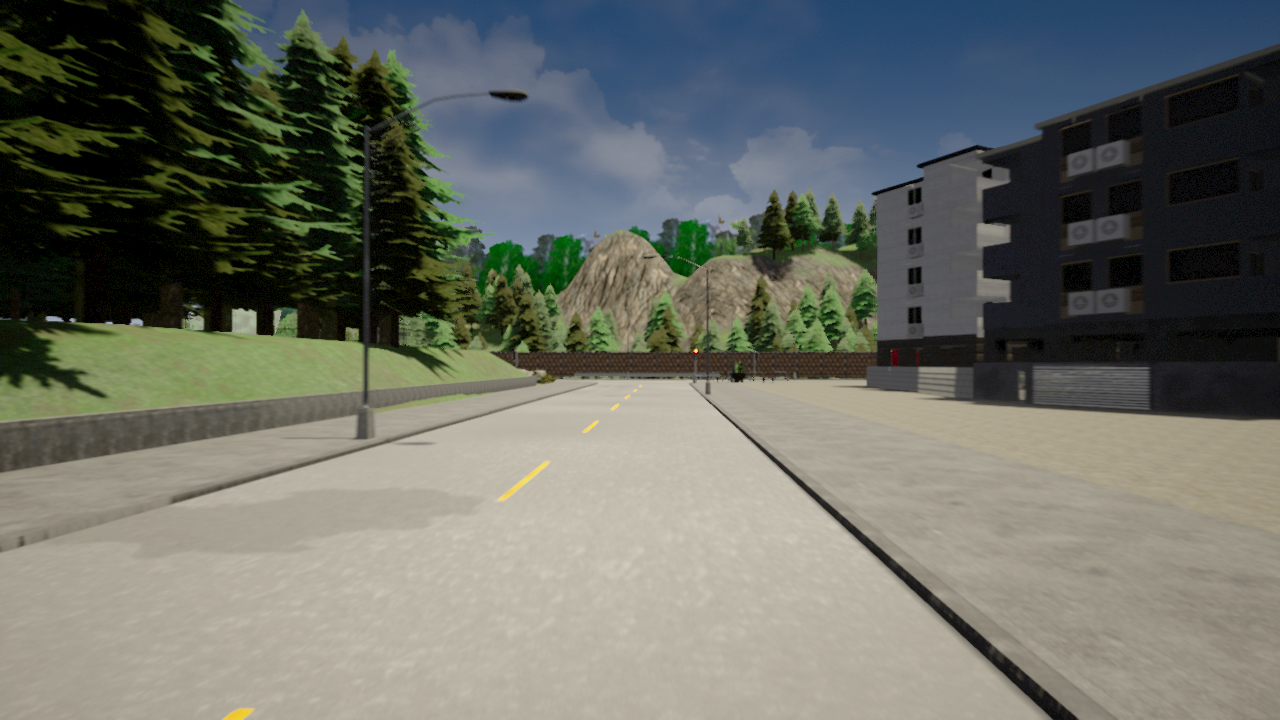red: (692, 348, 699, 360)
